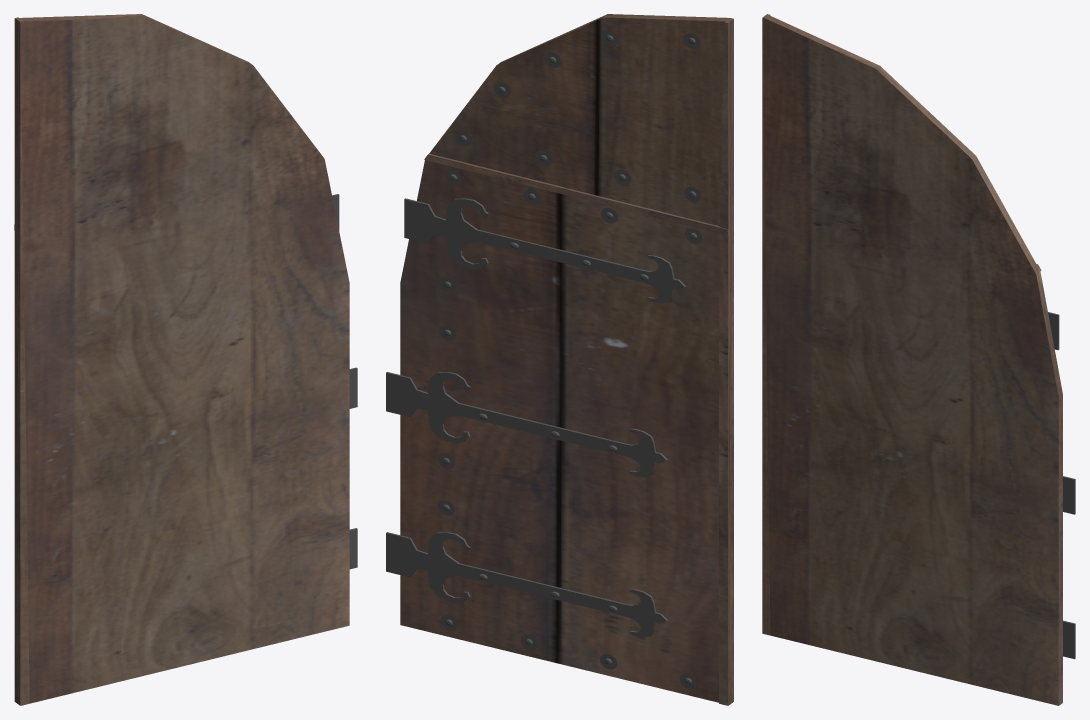
File: porta uscita.fbx
The picture shows the model from 3 angles, left to right: view 1: azimuth 30°, elevation 25°; view 2: azimuth 150°, elevation 25°; view 3: azimuth 330°, elevation 25°; orthographic projection. The views are drawn at different scales.
Parts seen in each view (by area): view 1: Porta entrata.002; view 2: Porta entrata.002; view 3: Porta entrata.002.
Boxes of the visible parts, box(x1,y1,x2,y2) form: Porta entrata.002: box(14, 14, 357, 705); Porta entrata.002: box(386, 14, 733, 705); Porta entrata.002: box(762, 14, 1075, 705).
Size of the model in its own units: 68.72 by 131 by 2.83.
Materials: 2 (1 with a texture image).
